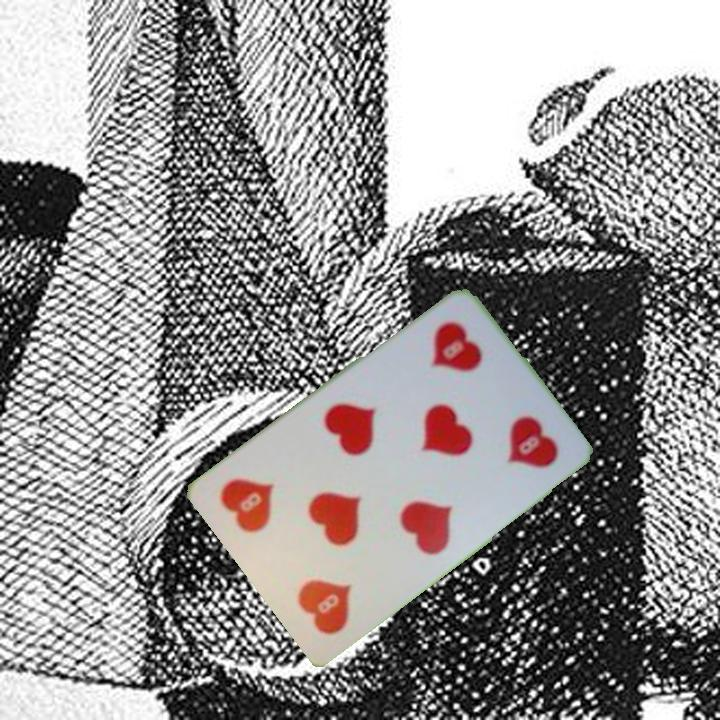h_8.png: (394, 301, 521, 431), (262, 518, 388, 647)
